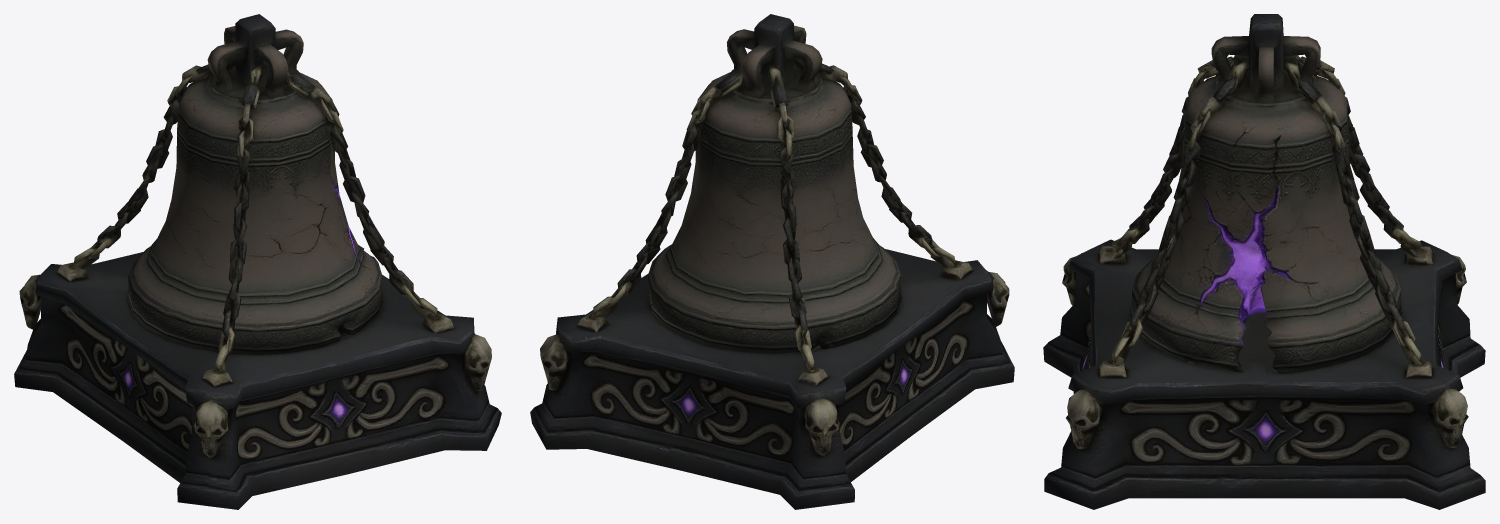
File: bell_altar.glb
The picture shows the model from 3 angles, left to right: view 1: azimuth 30°, elevation 25°; view 2: azimuth 150°, elevation 25°; view 3: azimuth 270°, elevation 25°; orthographic projection. The views are drawn at different scales.
Parts seen in each view (by area): view 1: tripo_node_83efc3cd-8fcf-4b3c-a516-d32835111748; view 2: tripo_node_83efc3cd-8fcf-4b3c-a516-d32835111748; view 3: tripo_node_83efc3cd-8fcf-4b3c-a516-d32835111748.
Boxes of the visible parts, box(x1,y1,x2,y2) form: tripo_node_83efc3cd-8fcf-4b3c-a516-d32835111748: box(14, 14, 501, 509); tripo_node_83efc3cd-8fcf-4b3c-a516-d32835111748: box(530, 14, 1014, 509); tripo_node_83efc3cd-8fcf-4b3c-a516-d32835111748: box(1043, 14, 1485, 509).
Bounding box in the file's own units: 0.8769 × 0.998 × 0.9747.
1 material, 1 textured.
